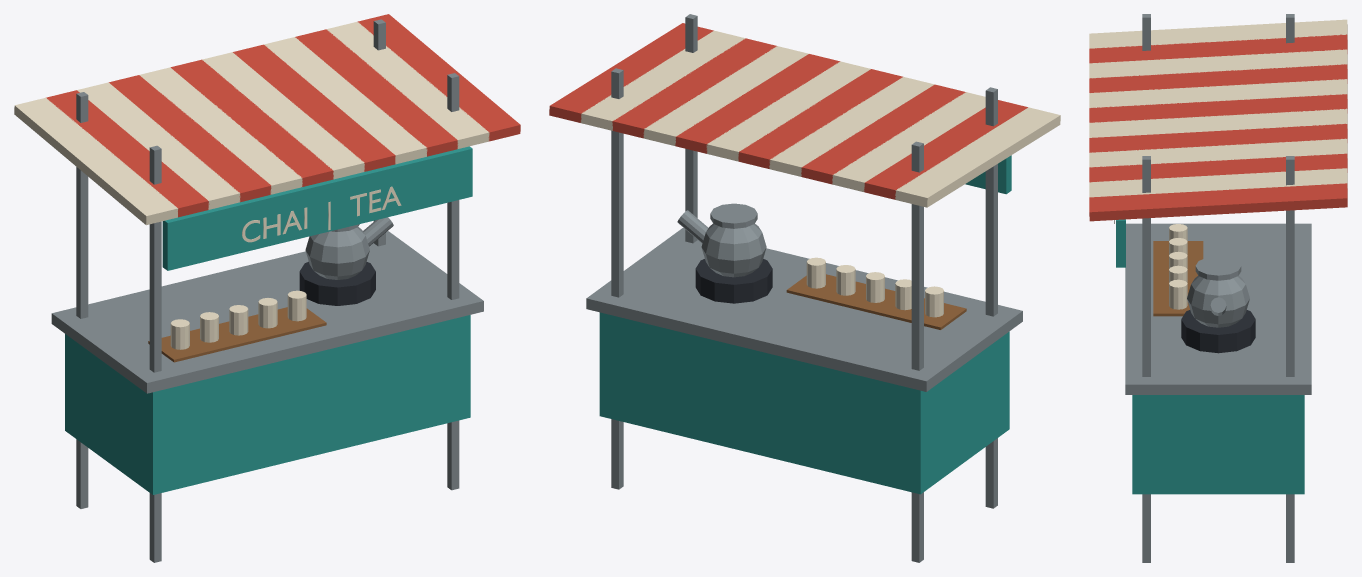
Rendered from tea_stall.glb.
3 renders of one model, left to right at view 1: azimuth 30°, elevation 25°; view 2: azimuth 150°, elevation 25°; view 3: azimuth 270°, elevation 25°, orthographic. The views are drawn at different scales.
Visible parts, largest first — view 1: tea_stall_Mesh; view 2: tea_stall_Mesh; view 3: tea_stall_Mesh.
Boxes of the visible parts, x1,y1,x2,y2 form: tea_stall_Mesh: (14,14,520,562); tea_stall_Mesh: (549,14,1060,562); tea_stall_Mesh: (1089,14,1347,562).
Bounding box in the file's own units: 2.95 × 3.1 × 1.8.
